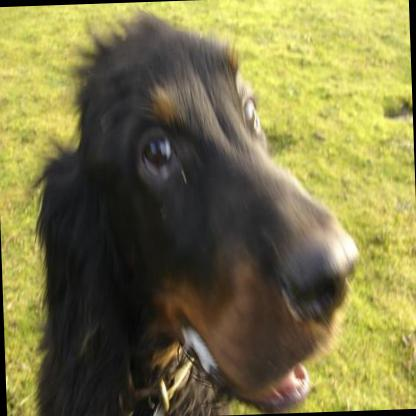Gordon_setter: (20, 0, 365, 416)
